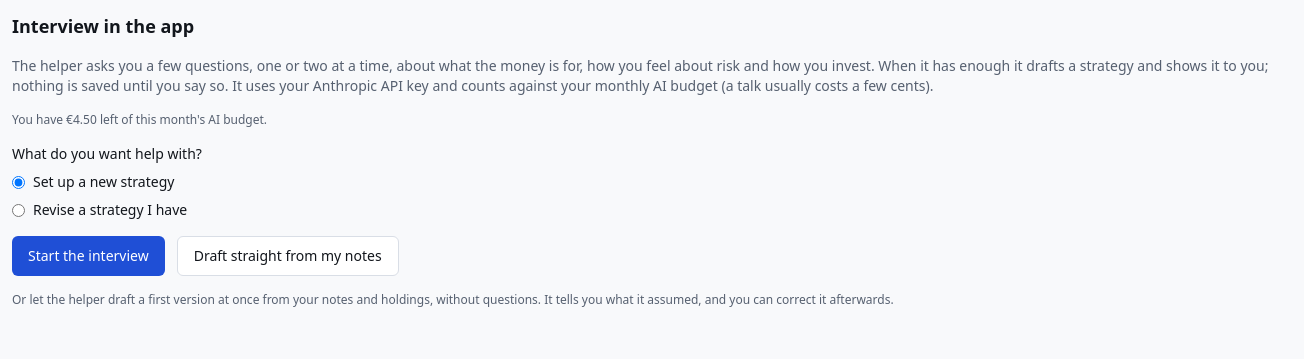
Test: the strategy interview in the app (ADR 0048) › asks for a draft at once when there are notes
Click the button "Draft straight from my notes" at x=288, y=256, box [177,236,399,276]
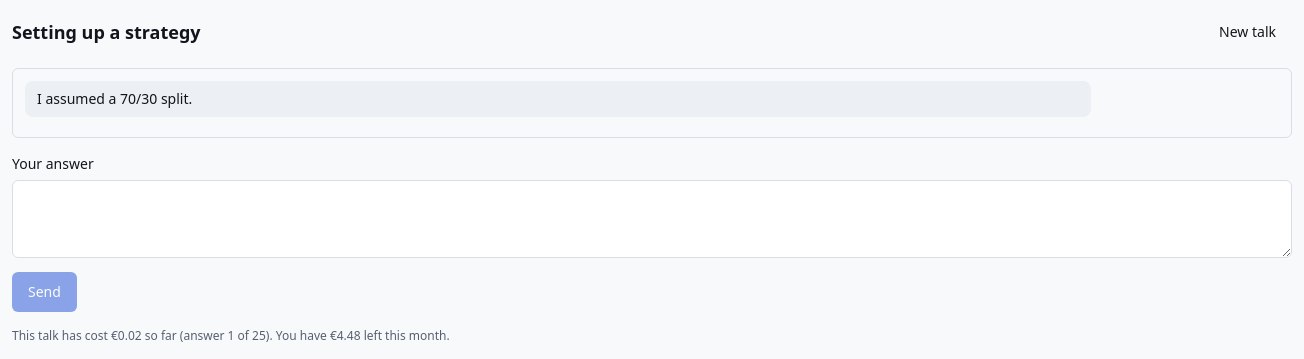
Now the list item "I assumed a 70/30 split." is shown, box [25,81,1091,117]
